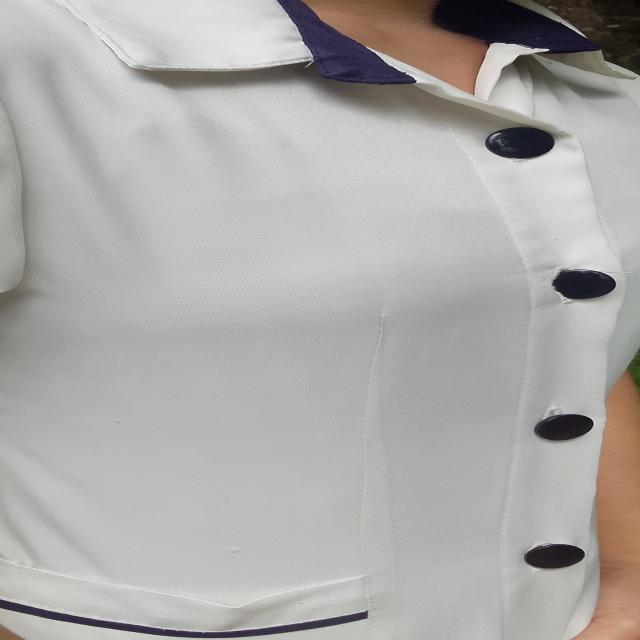education_female_uniform: (24, 11, 620, 632)
